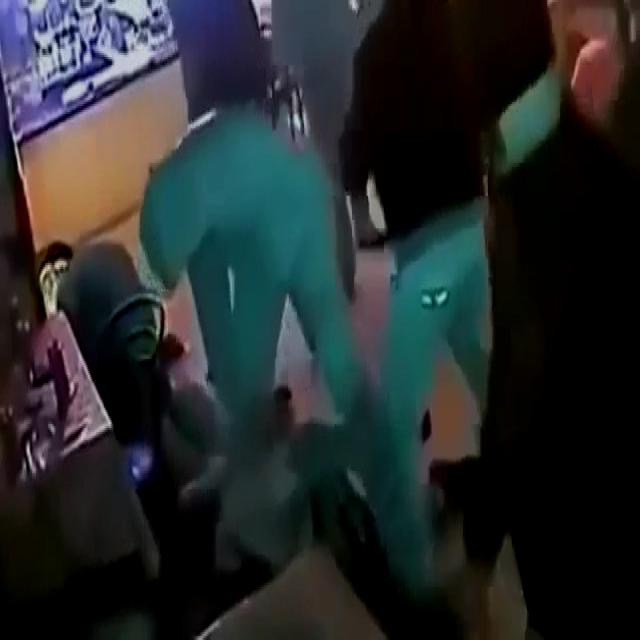fight: (144, 19, 392, 599)
